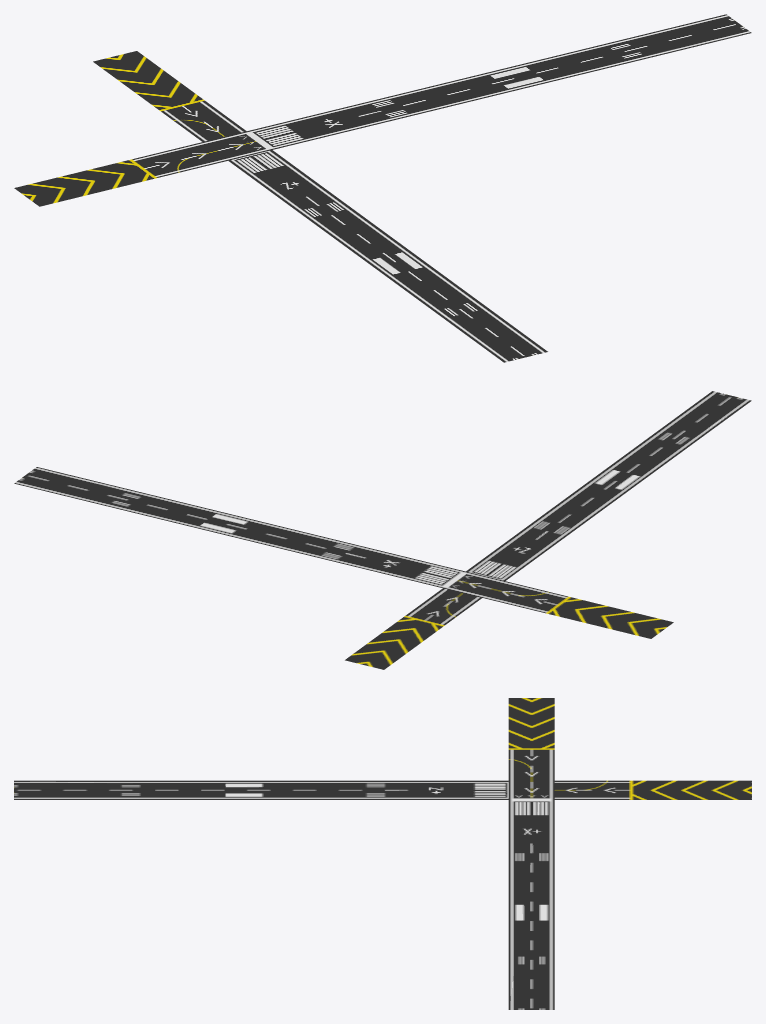
Rendered from runways.gltf.
The picture shows the model from 3 angles, top to bottom: view 1: azimuth 30°, elevation 25°; view 2: azimuth 150°, elevation 25°; view 3: azimuth 270°, elevation 25°; orthographic projection. The views are drawn at different scales.
Parts seen in each view (by area): view 1: runway_x_obj, runway_z_obj; view 2: runway_x_obj, runway_z_obj; view 3: runway_x_obj, runway_z_obj.
Part boxes in pixels (bbox=[...]): runway_x_obj: bbox=[14, 14, 751, 206]; runway_z_obj: bbox=[93, 51, 547, 362]; runway_x_obj: bbox=[14, 467, 673, 638]; runway_z_obj: bbox=[345, 391, 751, 669]; runway_x_obj: bbox=[508, 698, 554, 1009]; runway_z_obj: bbox=[14, 780, 751, 799].
Bounding box in the file's own units: 982 × 0.1 × 982.
Materials: 2 (2 with a texture image).
